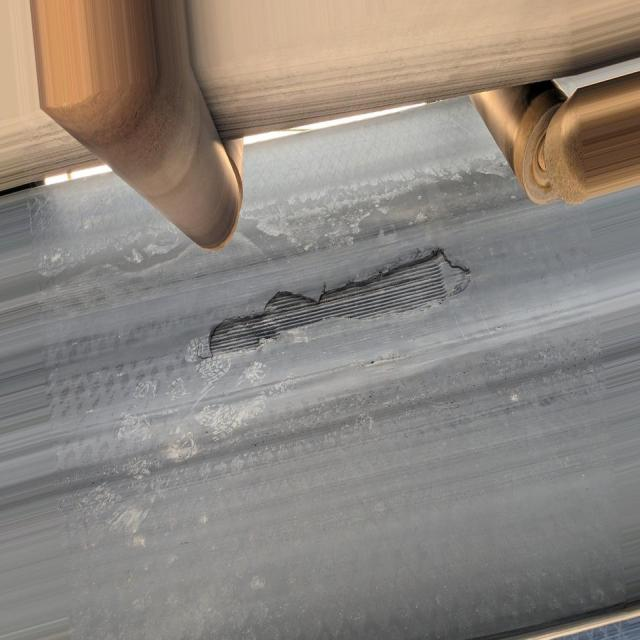Roller: (28, 0, 240, 255), (472, 71, 640, 211)
Tear: (198, 240, 477, 368)
